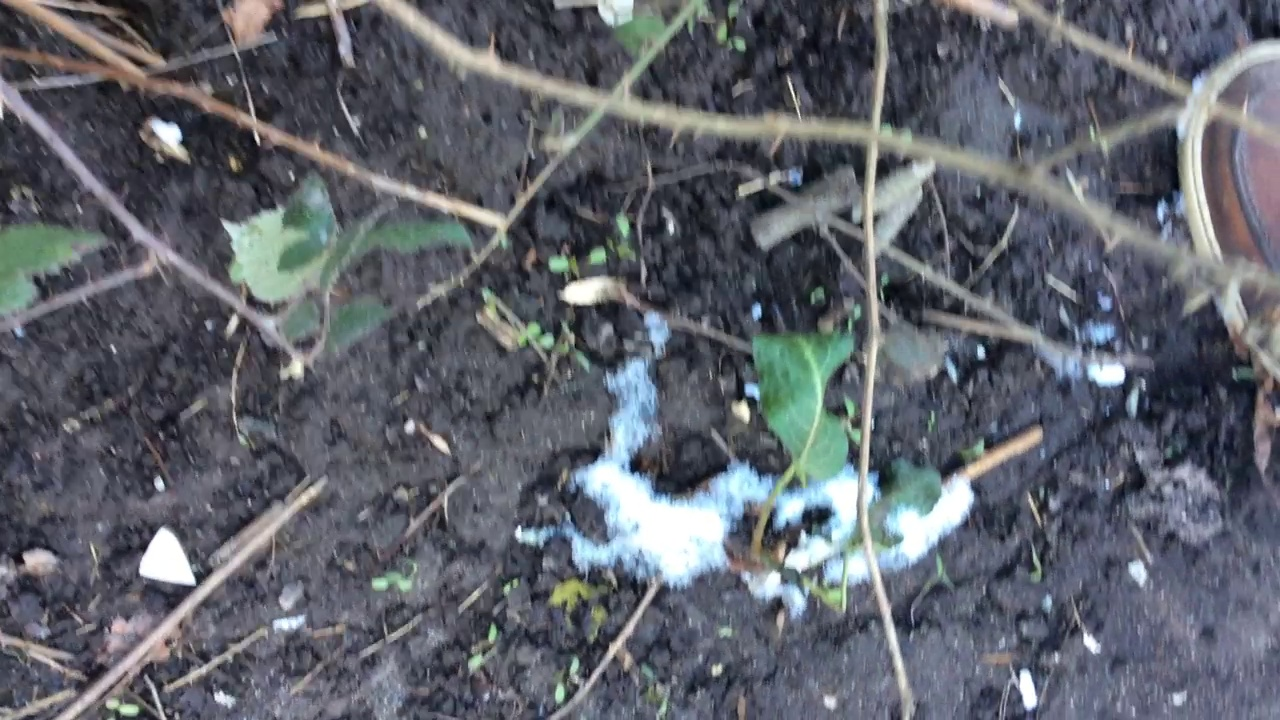root: (735, 537, 793, 596)
rumex: (733, 324, 936, 608)
